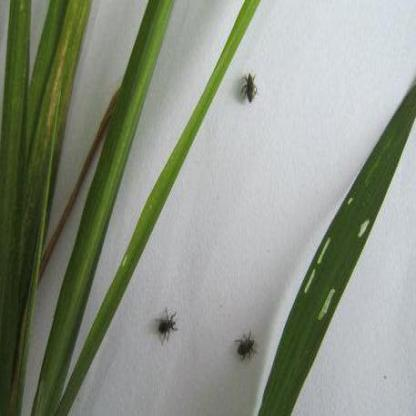rice-bug: (158, 309, 178, 342), (236, 331, 257, 362), (243, 71, 259, 103)
